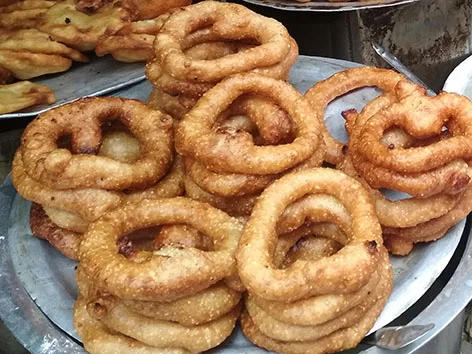sel_roti: (240, 173, 374, 288), (80, 197, 234, 293), (23, 97, 170, 187), (182, 75, 318, 168), (156, 3, 292, 81), (365, 91, 472, 169)
